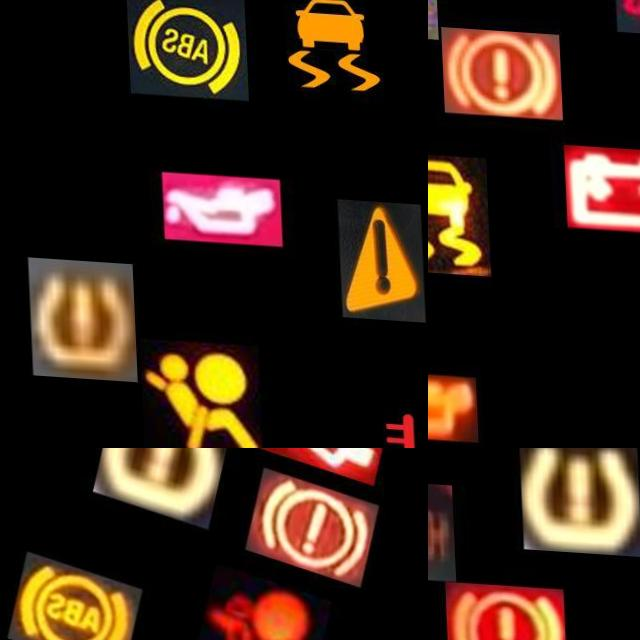Central Warning lamp: (335, 194, 423, 317)
Engine cooling system: (344, 385, 428, 448)
